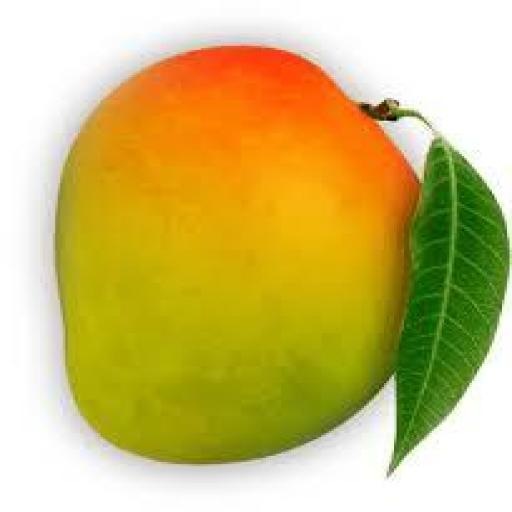mango: (58, 46, 419, 462)
